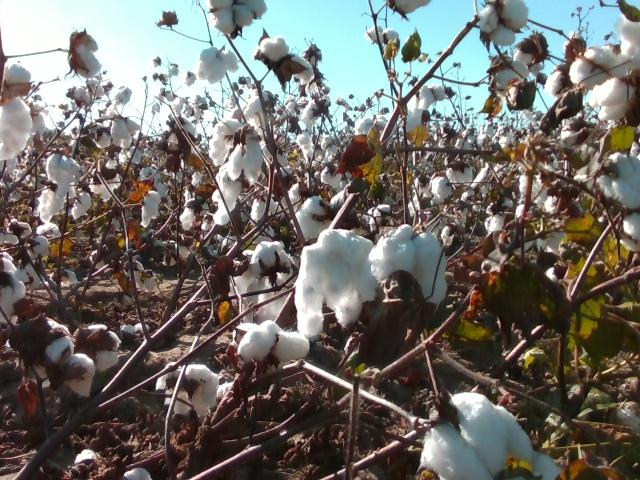cotton_ready: (419, 392, 532, 480), (297, 229, 378, 336), (369, 225, 452, 304), (157, 362, 220, 418), (0, 61, 34, 160), (238, 320, 310, 365), (590, 64, 640, 126), (216, 120, 266, 179), (237, 269, 290, 322), (43, 151, 81, 221), (29, 317, 71, 380), (75, 322, 124, 372), (259, 38, 315, 81), (478, 0, 529, 47), (598, 152, 640, 204), (206, 0, 266, 36), (243, 239, 294, 278), (0, 251, 28, 319), (568, 44, 615, 83), (211, 167, 241, 228), (60, 352, 96, 402), (294, 194, 332, 238), (70, 31, 103, 81), (198, 46, 242, 82), (491, 58, 528, 95), (616, 379, 640, 433), (616, 14, 640, 62), (619, 211, 640, 252), (533, 451, 561, 480), (393, 0, 431, 16)
